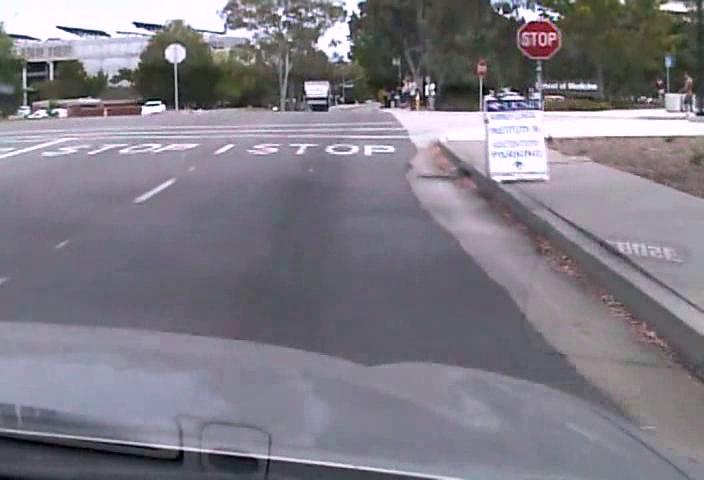stop: (516, 19, 561, 59)
